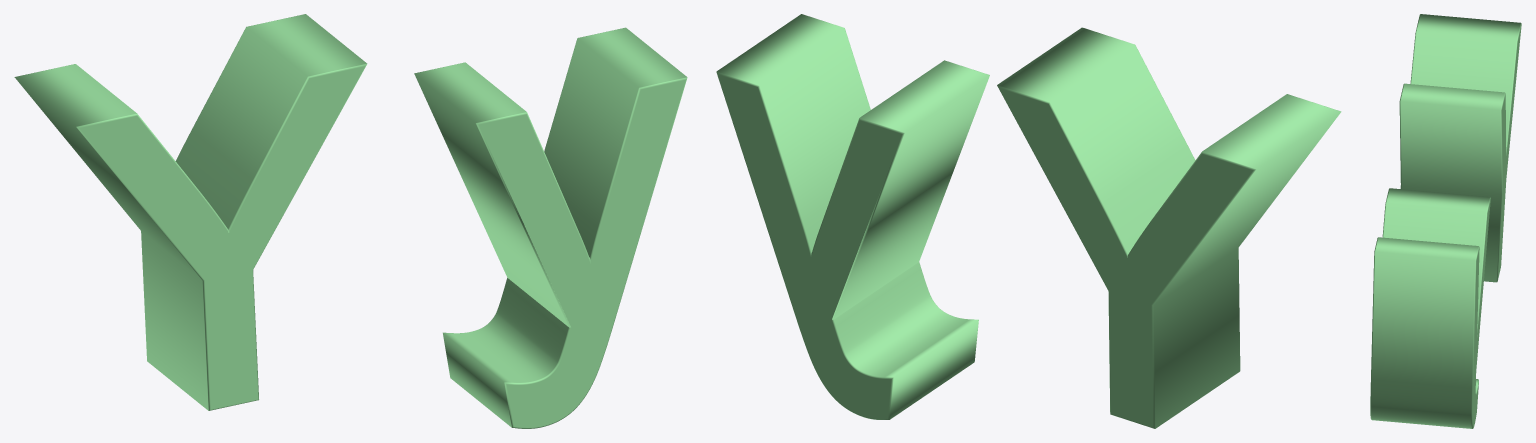
File: ObjectY.fbx
The picture shows the model from 3 angles, left to right: view 1: azimuth 30°, elevation 25°; view 2: azimuth 150°, elevation 25°; view 3: azimuth 270°, elevation 25°; orthographic projection. The views are drawn at different scales.
Parts seen in each view (by area): view 1: Text; view 2: Text; view 3: Text.
Boxes of the visible parts, <box> form: Text: <box>14,14,687,428</box>; Text: <box>716,14,1341,428</box>; Text: <box>1370,14,1521,428</box>.
Bounding box in the file's own units: 277 × 177 × 90.43.
